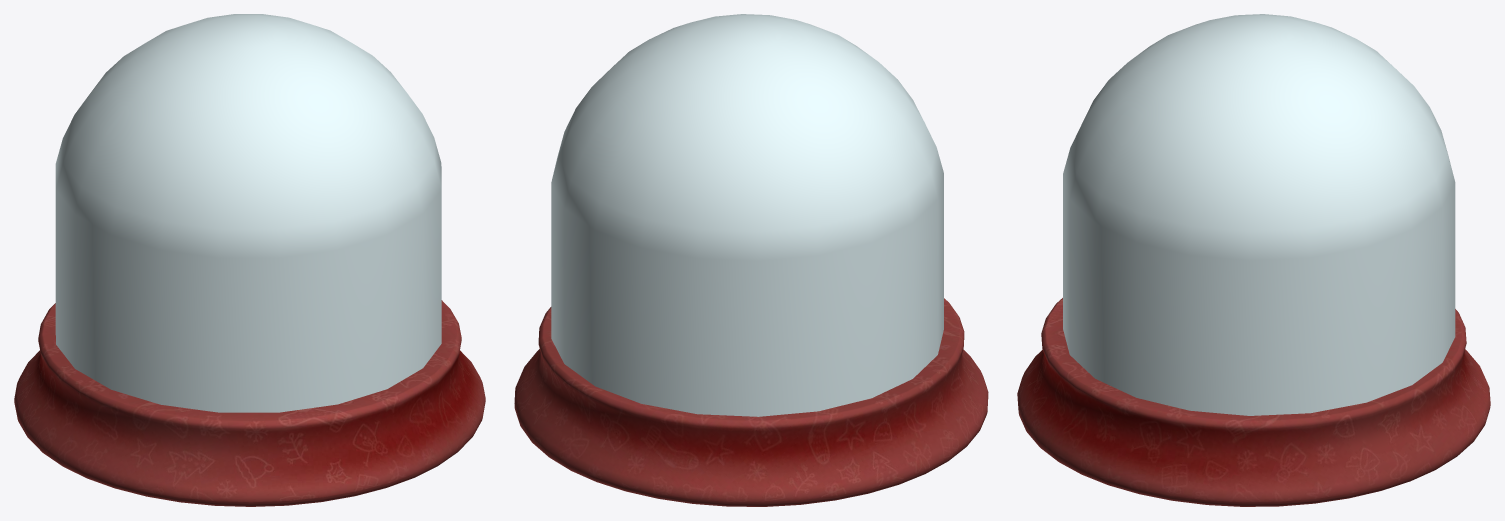
Rendered from art_globe2.gltf.
3 views of the same model, side by side, from view 1: azimuth 30°, elevation 25°; view 2: azimuth 150°, elevation 25°; view 3: azimuth 270°, elevation 25° (orthographic).
Parts seen in each view (by area): view 1: GlobeGlass, Base; view 2: GlobeGlass, Base; view 3: GlobeGlass, Base.
Boxes of the visible parts, x1=… form: GlobeGlass: x1=55, y1=14, x2=441, y2=412; Base: x1=14, y1=300, x2=485, y2=506; GlobeGlass: x1=551, y1=14, x2=943, y2=416; Base: x1=514, y1=298, x2=988, y2=506; GlobeGlass: x1=1063, y1=14, x2=1455, y2=415; Base: x1=1017, y1=298, x2=1490, y2=506.
Bounding box in the file's own units: 5.94 × 5.22 × 5.94.
6 materials, 2 textured.
